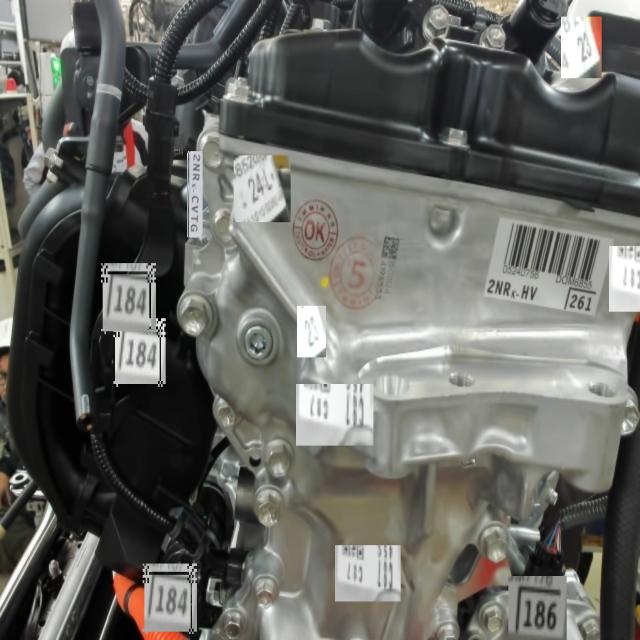Absorber LH-23: (575, 24, 593, 70), (302, 313, 322, 353)
Absorber LH-24: (244, 165, 277, 205)
Engine Assy-184: (114, 279, 148, 319), (125, 335, 159, 374), (155, 582, 189, 617)
Engine Assy-186: (518, 587, 559, 634)
Engine Assy-261: (563, 282, 598, 318)
Hose Canister-PT: (94, 72, 123, 106)
Transaxele-C87-A27: (302, 392, 365, 435), (343, 558, 396, 593)
